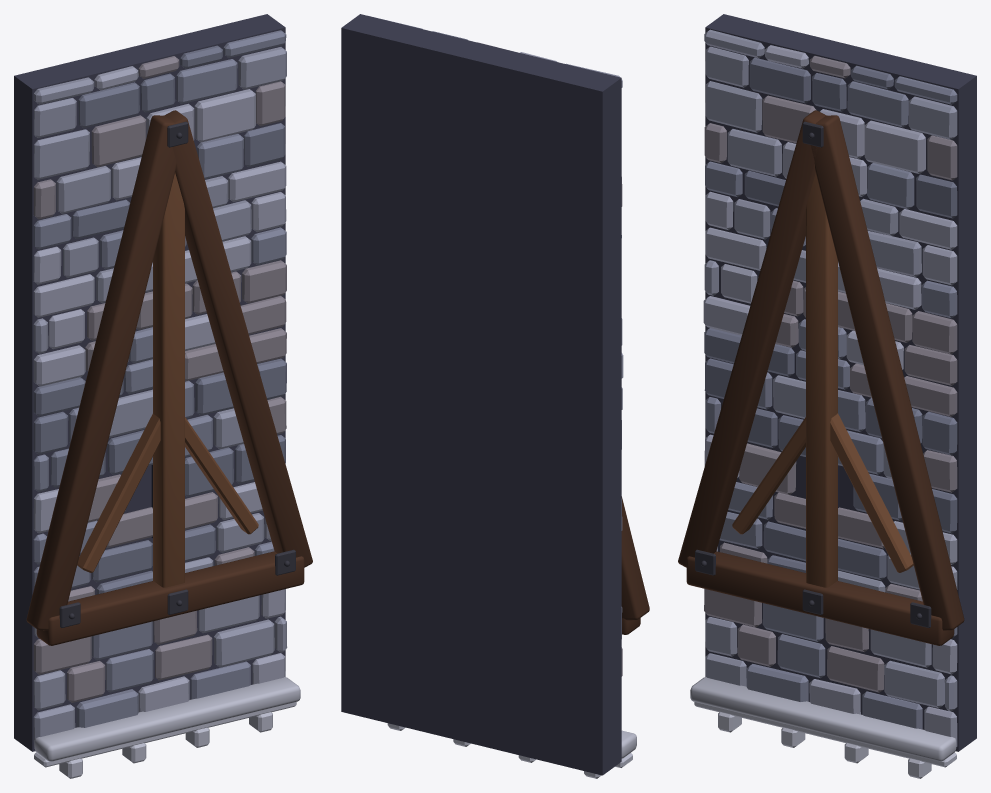
File: magic_wall_top.glb
3 renders of one model, left to right at view 1: azimuth 30°, elevation 25°; view 2: azimuth 150°, elevation 25°; view 3: azimuth 330°, elevation 25°, orthographic. The views are drawn at different scales.
Parts seen in each view (by area): view 1: magic_wall_top; view 2: magic_wall_top; view 3: magic_wall_top.
Part boxes in pixels (bbox=[...]): magic_wall_top: bbox=[14, 14, 312, 778]; magic_wall_top: bbox=[341, 14, 649, 778]; magic_wall_top: bbox=[678, 14, 976, 778].
Bounding box in the file's own units: 2.18 × 5.19 × 0.55.
